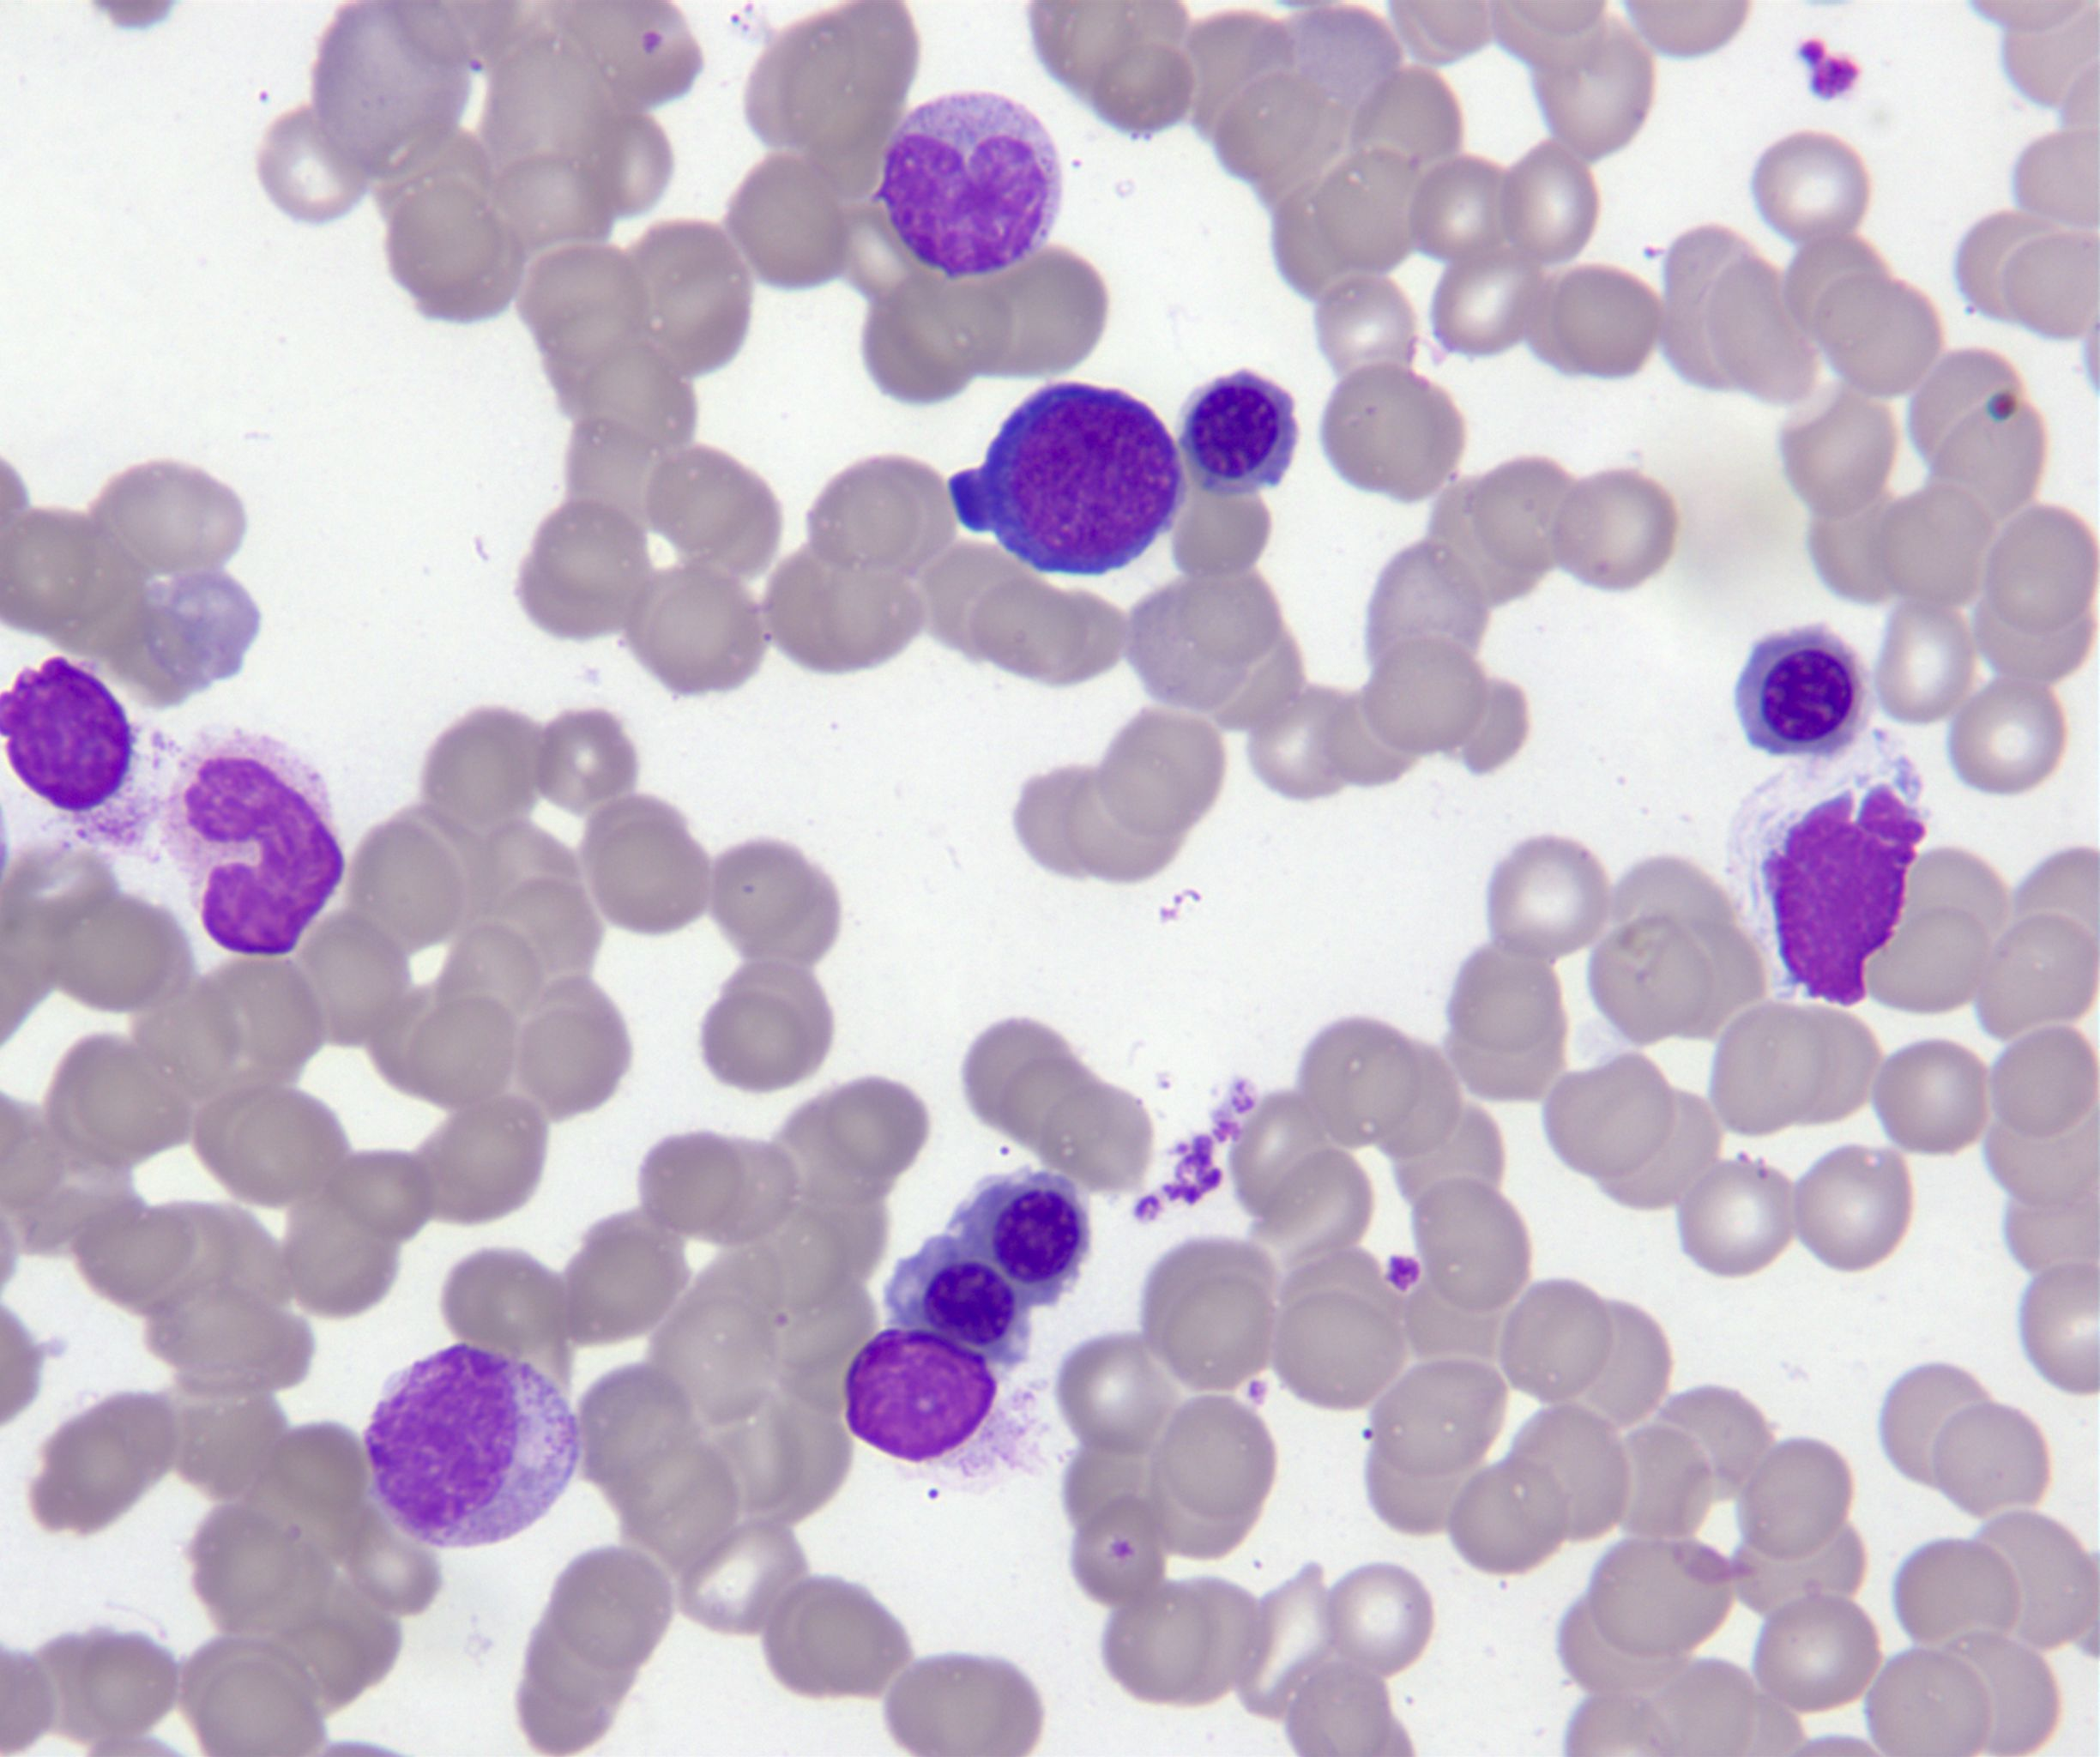22: (942, 375, 1191, 583)
23: (1172, 361, 1303, 506), (987, 1174, 1092, 1295), (909, 1256, 1033, 1357)
24: (1732, 625, 1872, 762)
3: (359, 1338, 586, 1555)
4: (862, 87, 1064, 284)
5: (162, 726, 347, 963)
x: (1749, 787, 1927, 1015), (837, 1323, 1001, 1469), (0, 651, 140, 817)
